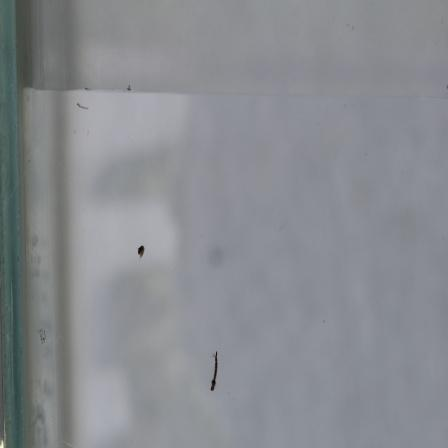Jentik-Nyamuk: (206, 350, 223, 393), (133, 238, 148, 263)
